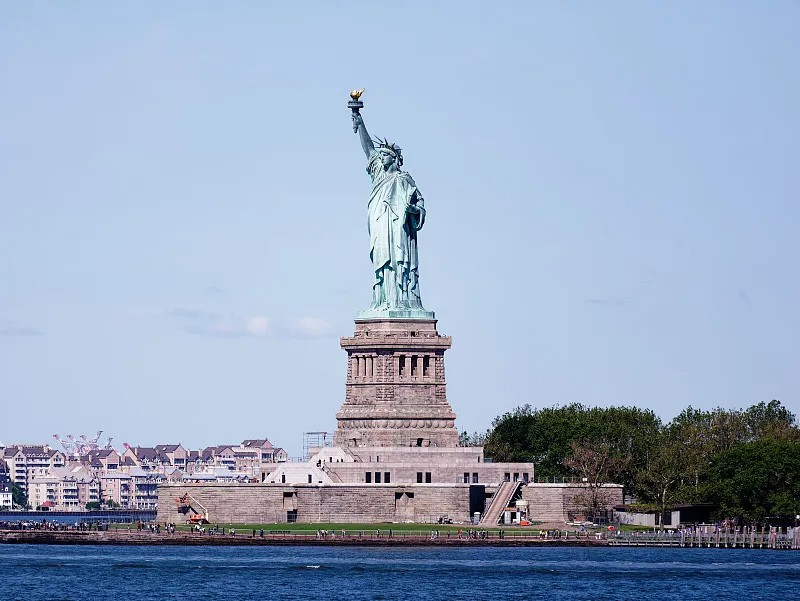SL: (333, 86, 458, 447)
